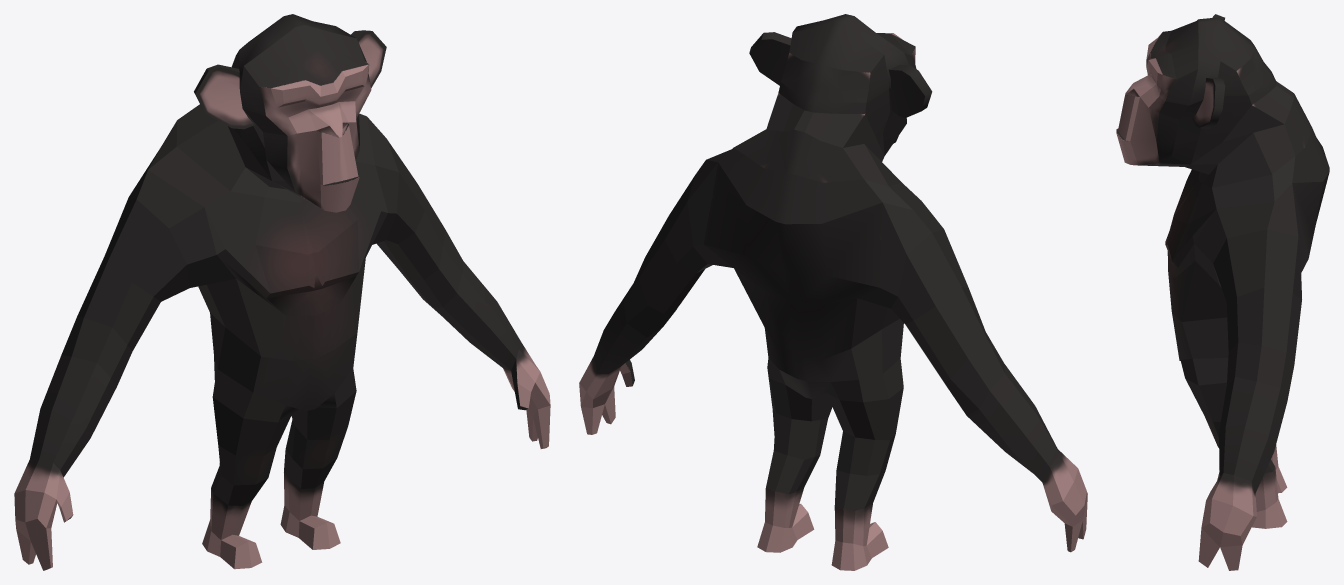
Rendered from Chimp_Enemy.fbx.
3 renders of one model, left to right at view 1: azimuth 30°, elevation 25°; view 2: azimuth 150°, elevation 25°; view 3: azimuth 270°, elevation 25°, orthographic. The views are drawn at different scales.
Parts seen in each view (by area): view 1: enemy_chimphead2; view 2: enemy_chimphead2; view 3: enemy_chimphead2.
Part boxes in pixels (x1,y1,x2,y2): enemy_chimphead2: (14, 14, 550, 570); enemy_chimphead2: (579, 14, 1087, 570); enemy_chimphead2: (1116, 14, 1329, 570).
Size of the model in its own units: 957 by 948 by 377.
Materials: 1 (1 with a texture image).
